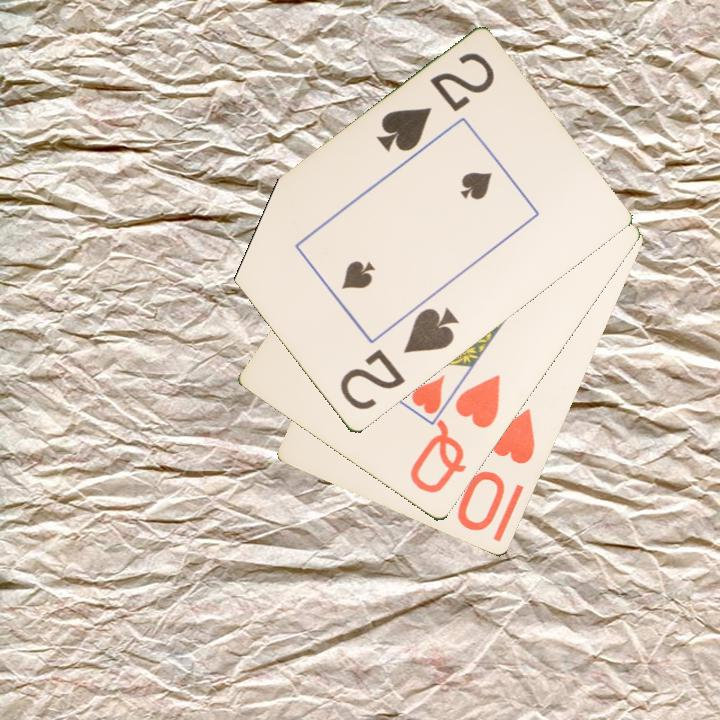10h: (454, 405, 539, 535)
2s: (336, 304, 462, 414), (373, 49, 498, 157)
Qh: (406, 371, 504, 498)
